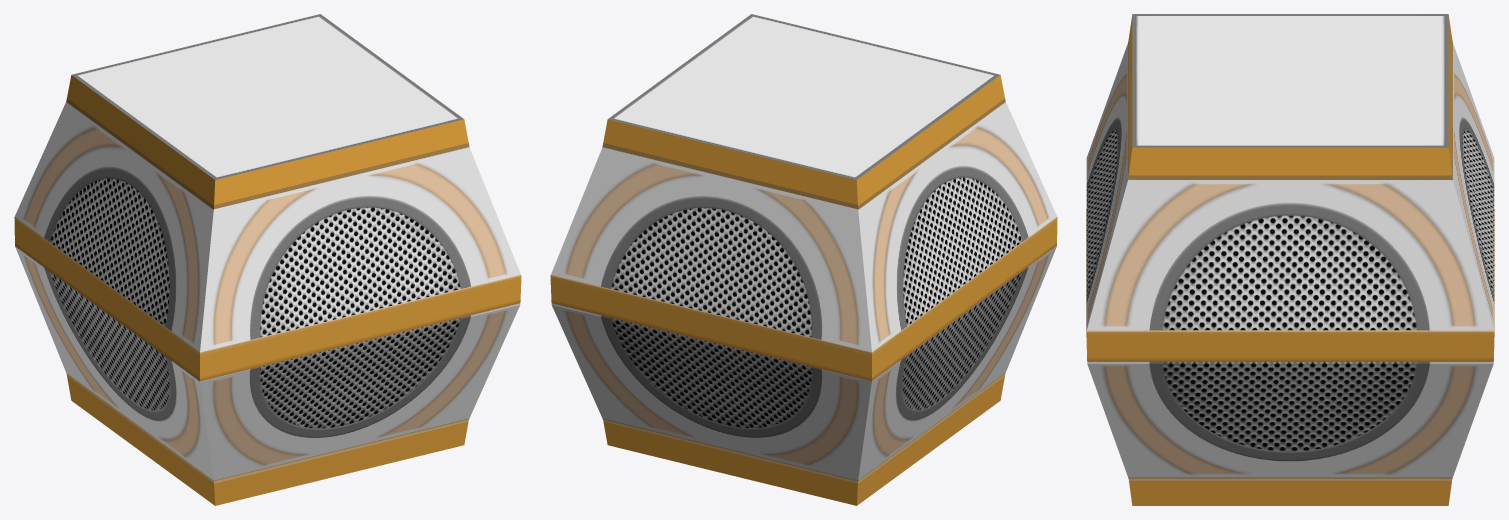
The model's file is anchor_hana.fbx.
3 views of the same model, side by side, from view 1: azimuth 30°, elevation 25°; view 2: azimuth 150°, elevation 25°; view 3: azimuth 270°, elevation 25° (orthographic). The views are drawn at different scales.
Visible parts, largest first — view 1: pCube1; view 2: pCube1; view 3: pCube1.
Boxes of the visible parts, left/top/right/bottom form: pCube1: left=14, top=14, right=521, bottom=505; pCube1: left=550, top=14, right=1057, bottom=505; pCube1: left=1086, top=14, right=1494, bottom=505.
Size of the model in its own units: 1.97 by 1.9 by 1.97.
Materials: 2 (2 with a texture image).
